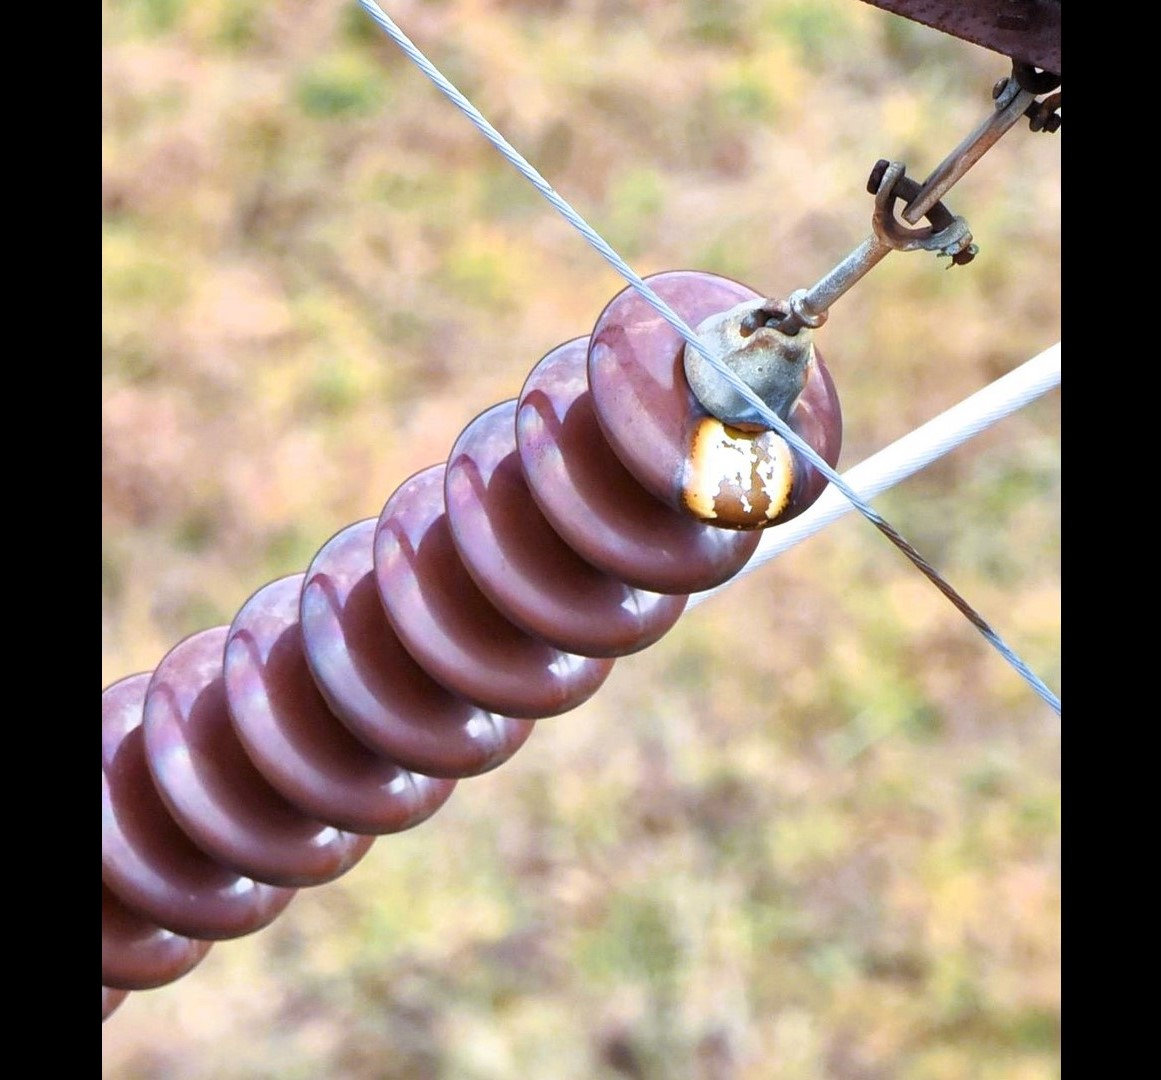Insulator flashover: (579, 256, 860, 537)
